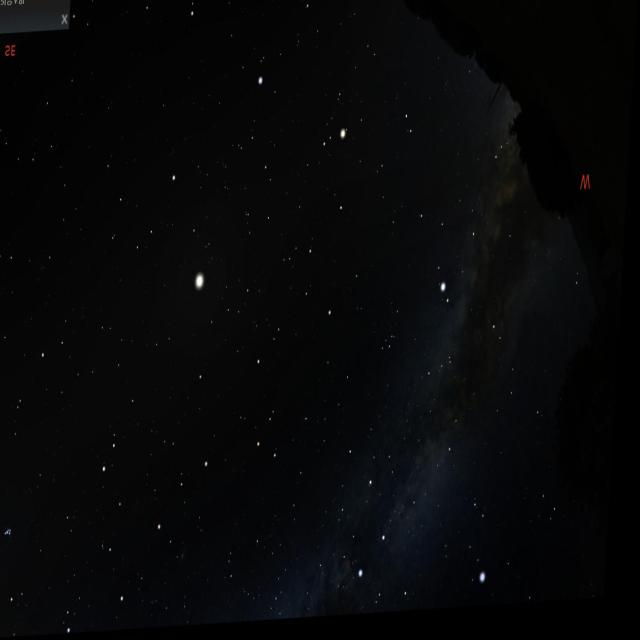aquila: (416, 136, 516, 316)
cygnus: (358, 444, 467, 614)
lyra: (468, 500, 501, 605)
pleiades: (2, 508, 28, 554)
taurus: (0, 445, 27, 563)
